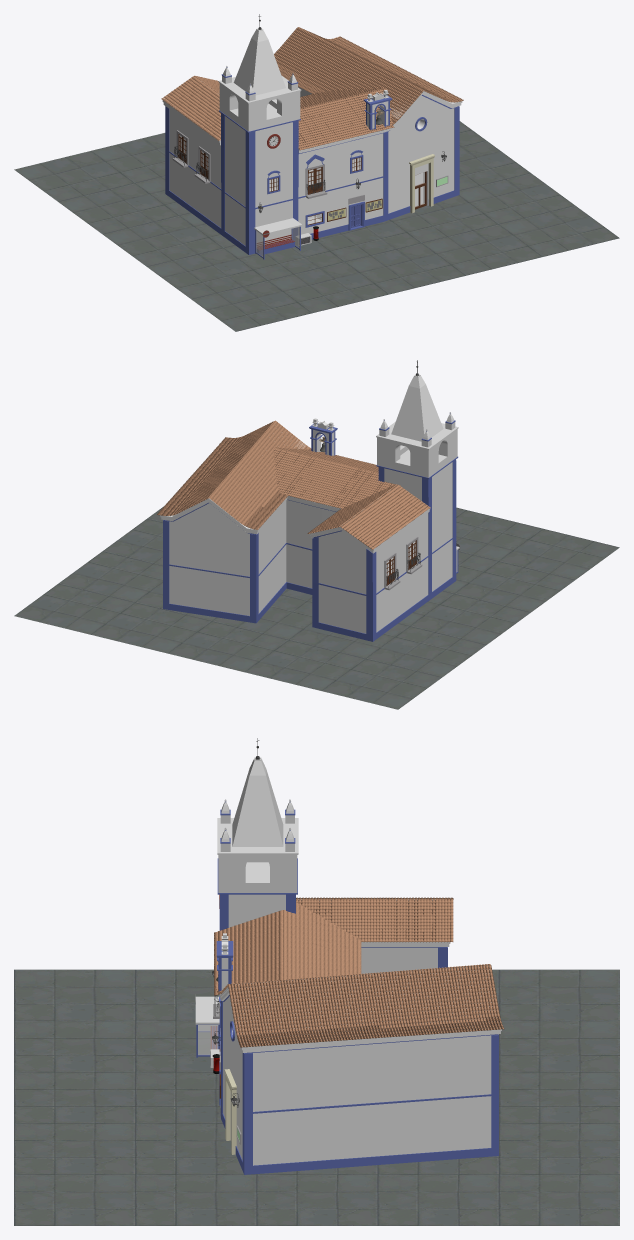
Rendered from bell-tower.glb.
3 views of the same model, one above another, from view 1: azimuth 30°, elevation 25°; view 2: azimuth 150°, elevation 25°; view 3: azimuth 270°, elevation 25° (orthographic). The views are drawn at different scales.
Parts seen in each view (by area): view 1: Plane, 立方体, BagaPie_Tiles.005, 立方体.068, 立方体.070, 立方体.092, 立方体.117; view 2: Plane, 立方体, BagaPie_Tiles.005, 立方体.068, 立方体.092; view 3: Plane, 立方体, BagaPie_Tiles.005, 立方体.068, 立方体.117.
Boxes of the visible parts, x1,y1,x2,y2 form: Plane: (14, 121, 619, 331); 立方体: (162, 28, 462, 245); BagaPie_Tiles.005: (161, 27, 463, 150); 立方体.068: (165, 67, 459, 259); 立方体.070: (178, 134, 426, 225); 立方体.092: (172, 130, 448, 204); 立方体.117: (409, 154, 434, 213); Plane: (14, 506, 619, 709); 立方体: (160, 374, 459, 633); BagaPie_Tiles.005: (157, 420, 430, 549); 立方体.068: (163, 413, 458, 641); 立方体.092: (384, 537, 422, 590); Plane: (14, 969, 619, 1225); 立方体: (195, 757, 501, 1165); BagaPie_Tiles.005: (214, 897, 504, 1047); 立方体.068: (196, 801, 498, 1174); 立方体.117: (224, 1069, 236, 1154).
Size of the model in its own units: 40 by 22.39 by 40.
Materials: 20 (2 with a texture image).
